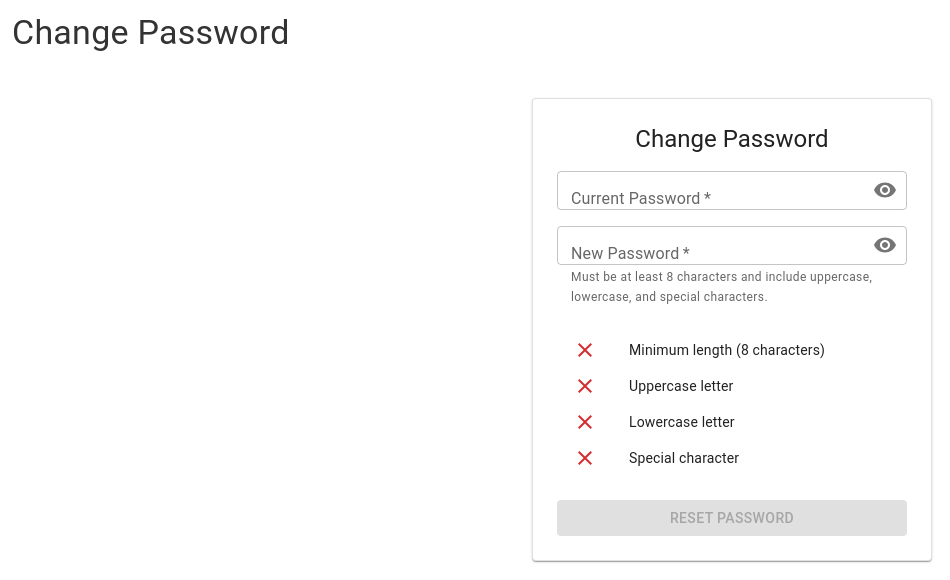
Test: ChangePasswordForm › disables submission until the current password and new password are valid
Check: the button "Reset Password" is disabled, box [557,500,907,536]
Type "Current1!" into the password field labelled "Current Password *". click: (707, 190)
box: [557,171,857,210]
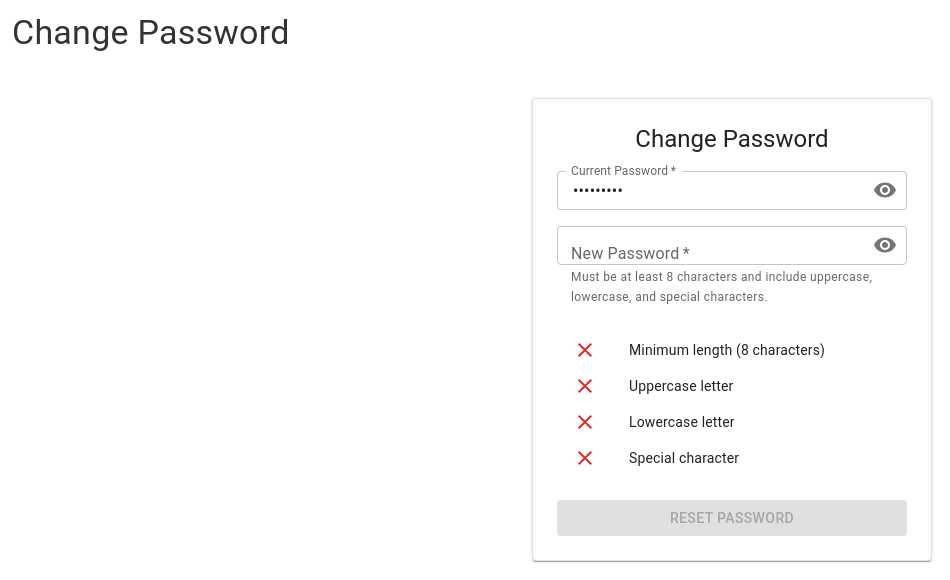
Check: the button "Reset Password" is disabled, box [557,500,907,536]
Type "short" into the password field labelled "New Password *". click: (707, 245)
box: [557,226,857,265]
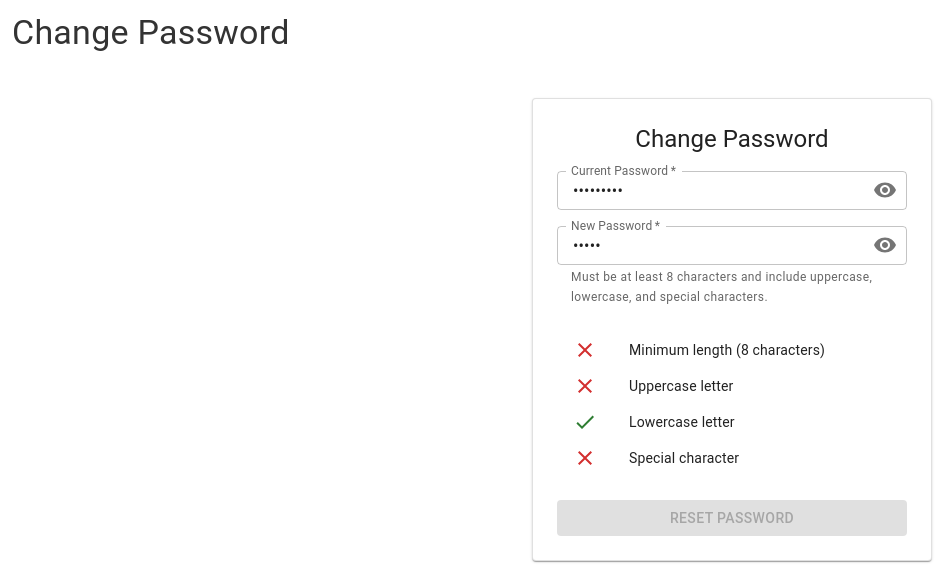
Check: the button "Reset Password" is disabled, box [557,500,907,536]
Type "ValidPass!" into the password field labelled "New Password *". click: (707, 245)
box: [557,226,857,265]
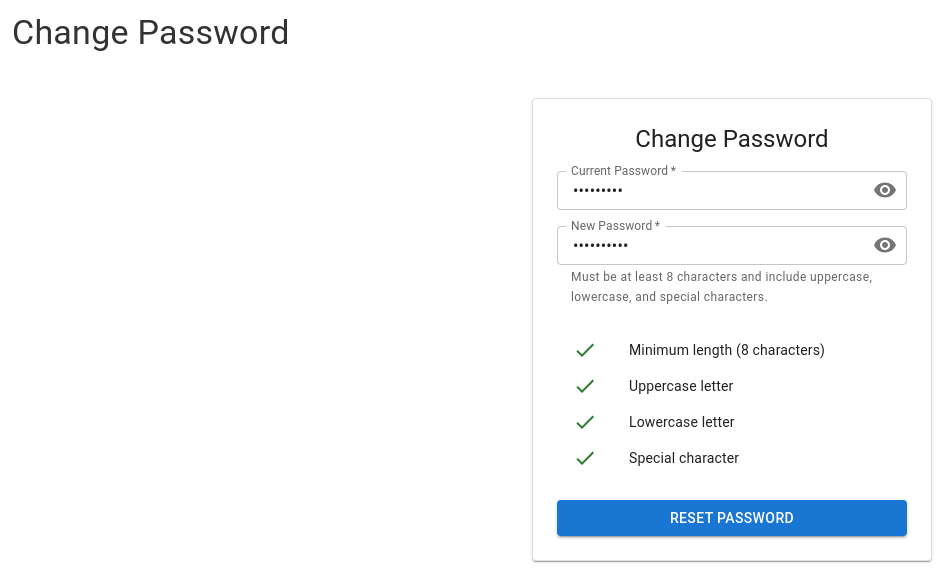
Check: the button "Reset Password" is enabled, box [557,500,907,536]
